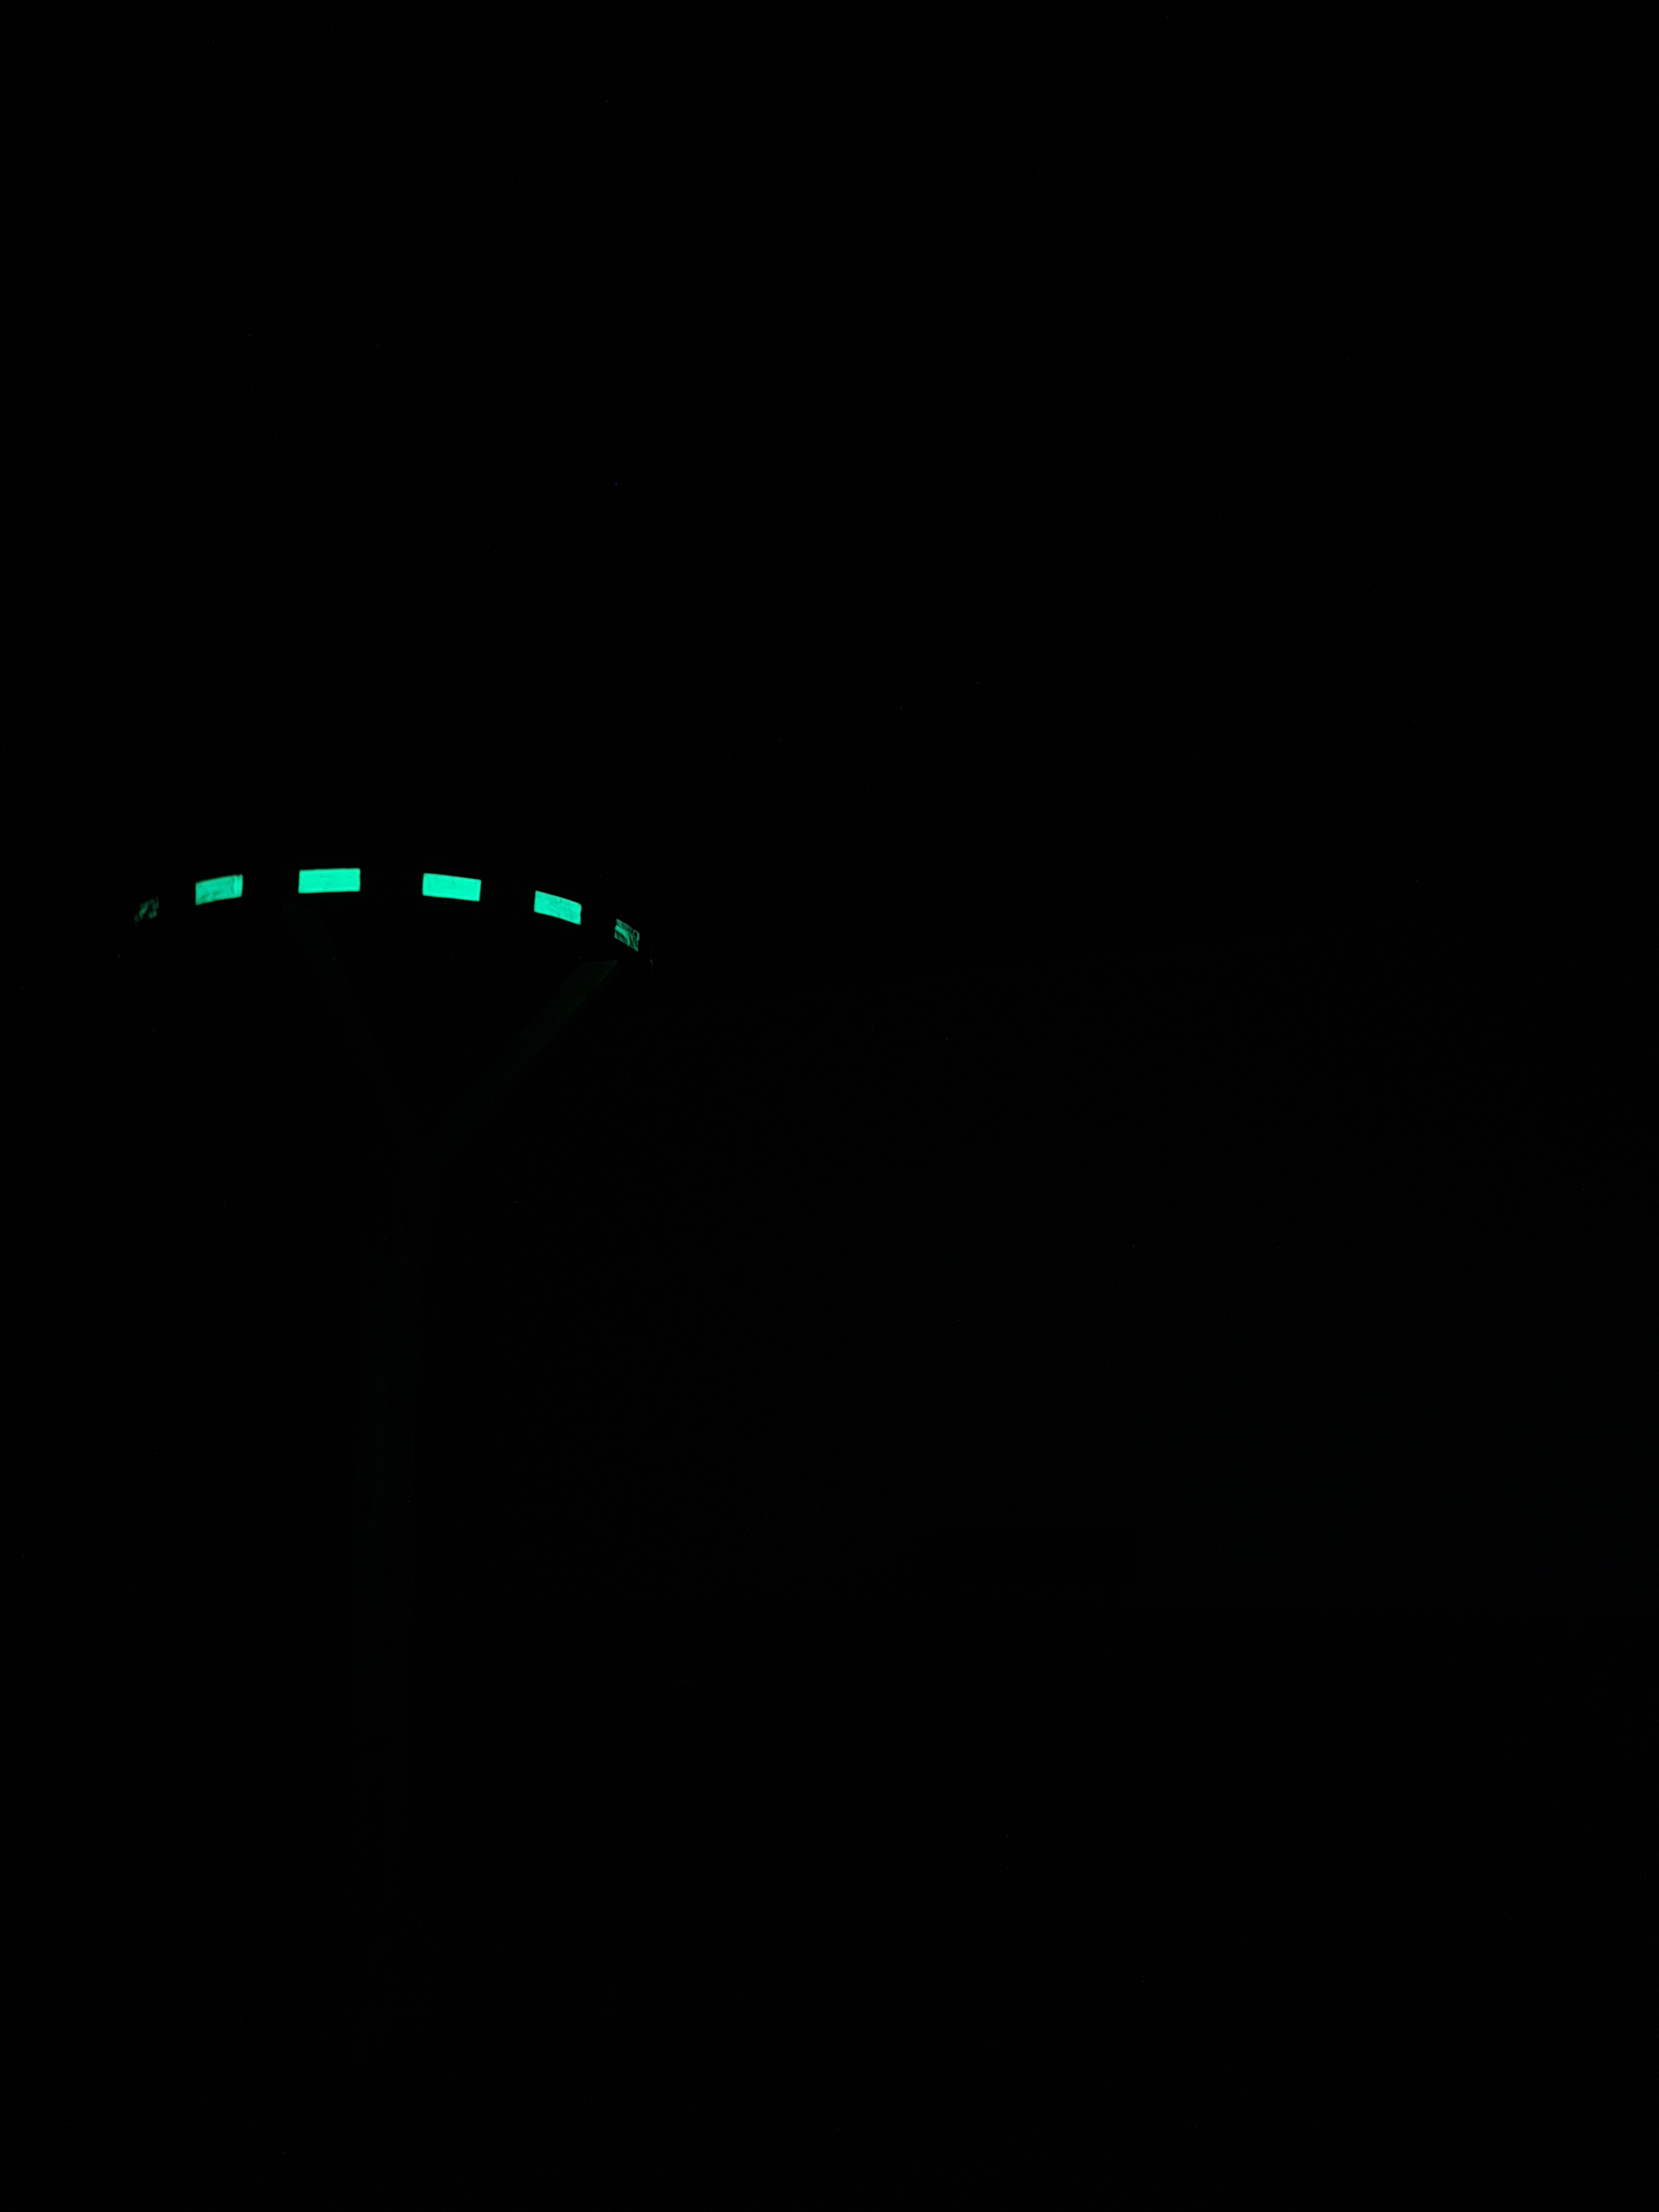hoop: (117, 843, 664, 979)
